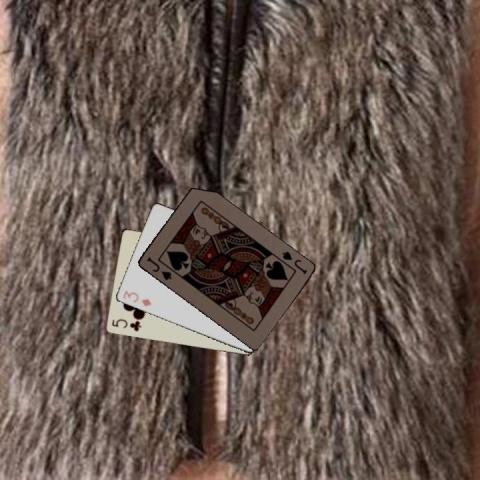3d: (120, 287, 153, 308)
5c: (109, 316, 142, 332)
Js: (143, 253, 173, 282), (279, 248, 308, 276)
